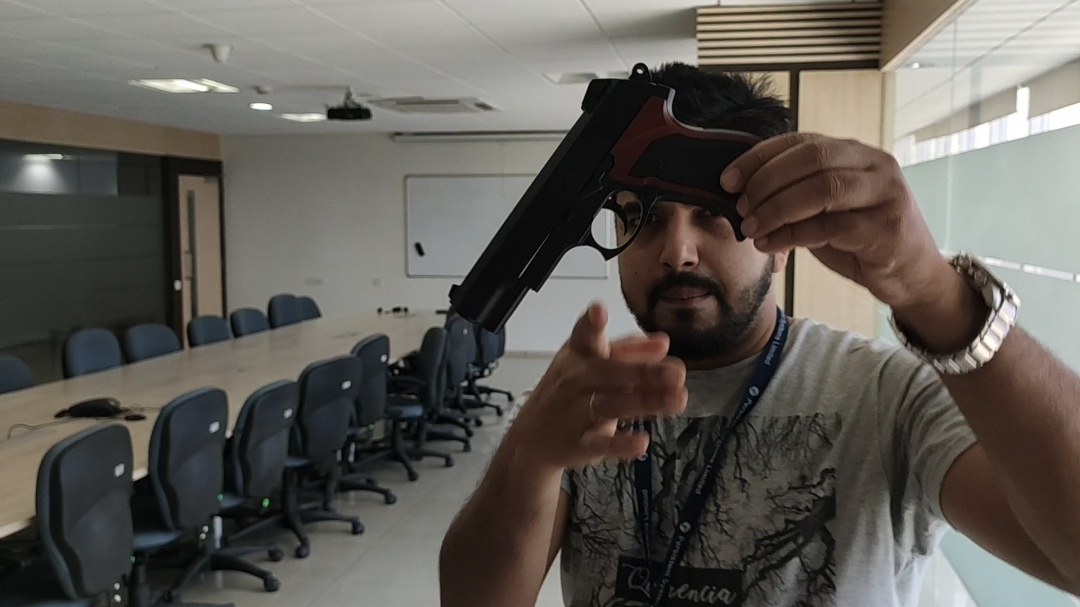gun: (447, 62, 762, 317)
